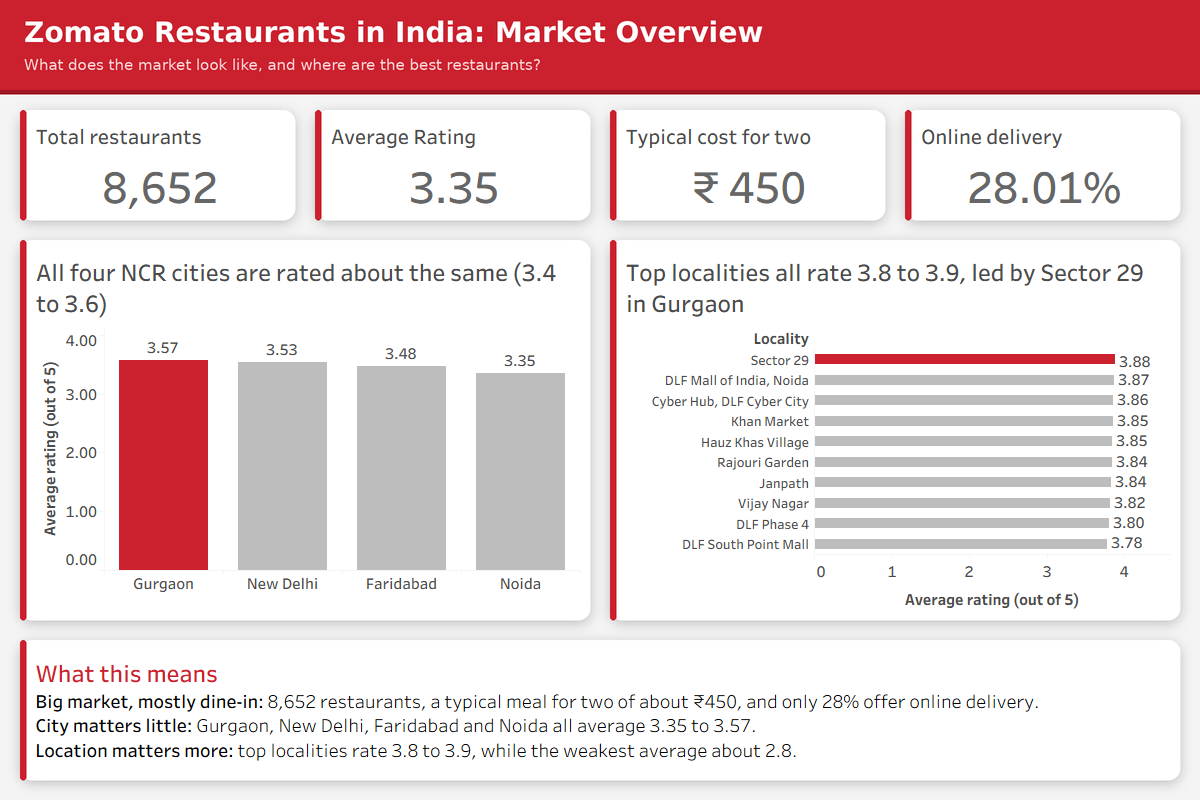

This screenshot's page, from the dashboard's own definition file:
{"tool":"tableau","page":{"name":"Market Overview","canvas":[1200,800],"ordinal":1},"visuals":[{"type":"image","param":"Image/zomato_bg.png","box":[0,0,1200,800]},{"type":"image","box":[8,8,1184,784]},{"type":"worksheet","title":"P1 – KPI Restaurants","mark":"Automatic","box":[32,116,257,98]},{"type":"worksheet","title":"P1 – KPI Avg Rating","mark":"Automatic","box":[327,116,255,98]},{"type":"worksheet","title":"P1 - KPI Cost of Two","mark":"Automatic","box":[622,116,255,98]},{"type":"worksheet","title":"P1 - KPI Online Percentage","mark":"Automatic","box":[917,116,255,98]},{"type":"worksheet","title":"P1 – Rating by City","mark":"Automatic","rows":["Calculation_0730403438157825"],"cols":["City"],"box":[32,250,548,360]},{"type":"worksheet","title":"P1 – Top Localities","mark":"Automatic","rows":["Locality"],"cols":["Calculation_0730403438157825"],"box":[622,250,548,360]},{"type":"text","box":[32,650,1138,120]}]}

Visuals, with their boxes in screenshot pixels (x1, y1, x2, y2), scaled from the page's 1200x800 canvas onto the 1200x800 screenshot:
image: bbox=(0, 0, 1199, 799)
image: bbox=(8, 8, 1192, 792)
"P1 – KPI Restaurants" worksheet: bbox=(32, 116, 289, 214)
"P1 – KPI Avg Rating" worksheet: bbox=(327, 116, 582, 214)
"P1 - KPI Cost of Two" worksheet: bbox=(622, 116, 877, 214)
"P1 - KPI Online Percentage" worksheet: bbox=(917, 116, 1172, 214)
"P1 – Rating by City" worksheet: bbox=(32, 250, 580, 610)
"P1 – Top Localities" worksheet: bbox=(622, 250, 1170, 610)
text: bbox=(32, 650, 1170, 770)
